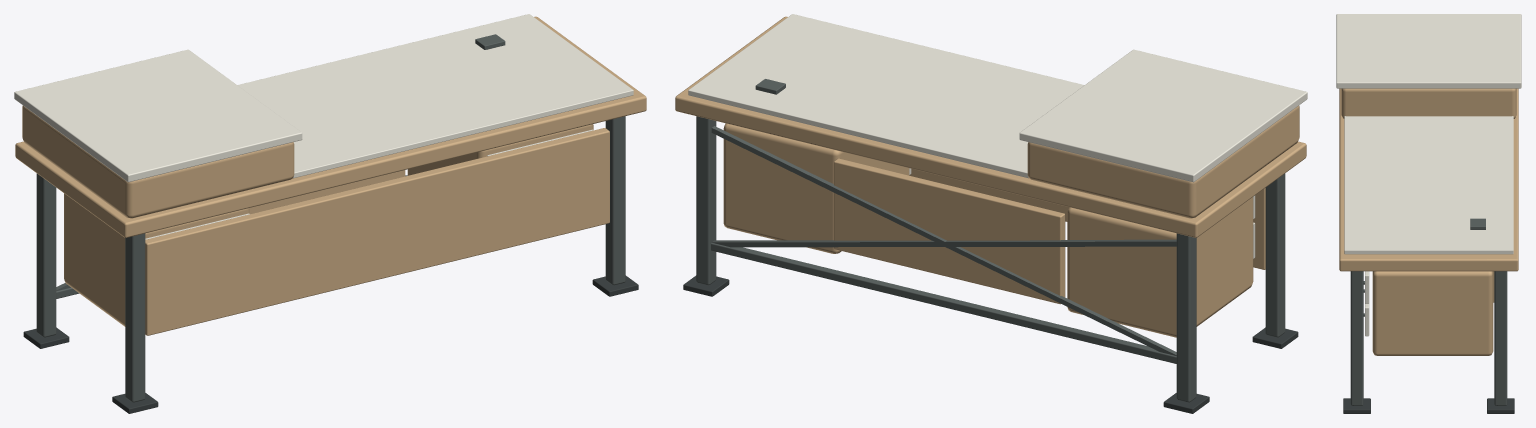
The model's file is public-library-and-reading-garden-public-library-and-r-cec68502__30905.glb.
3 renders of one model, left to right at view 1: azimuth 30°, elevation 25°; view 2: azimuth 150°, elevation 25°; view 3: azimuth 270°, elevation 25°, orthographic. The views are drawn at different scales.
Parts seen in each view (by area): view 1: public-library-and-reading-garden-circulation-desk; view 2: public-library-and-reading-garden-circulation-desk; view 3: public-library-and-reading-garden-circulation-desk.
Part boxes in pixels (x1,y1,x2,y2): public-library-and-reading-garden-circulation-desk: (14, 14, 646, 413); public-library-and-reading-garden-circulation-desk: (675, 14, 1307, 413); public-library-and-reading-garden-circulation-desk: (1336, 14, 1521, 413).
Size of the model in its own units: 2.48 by 1.11 by 0.94.
